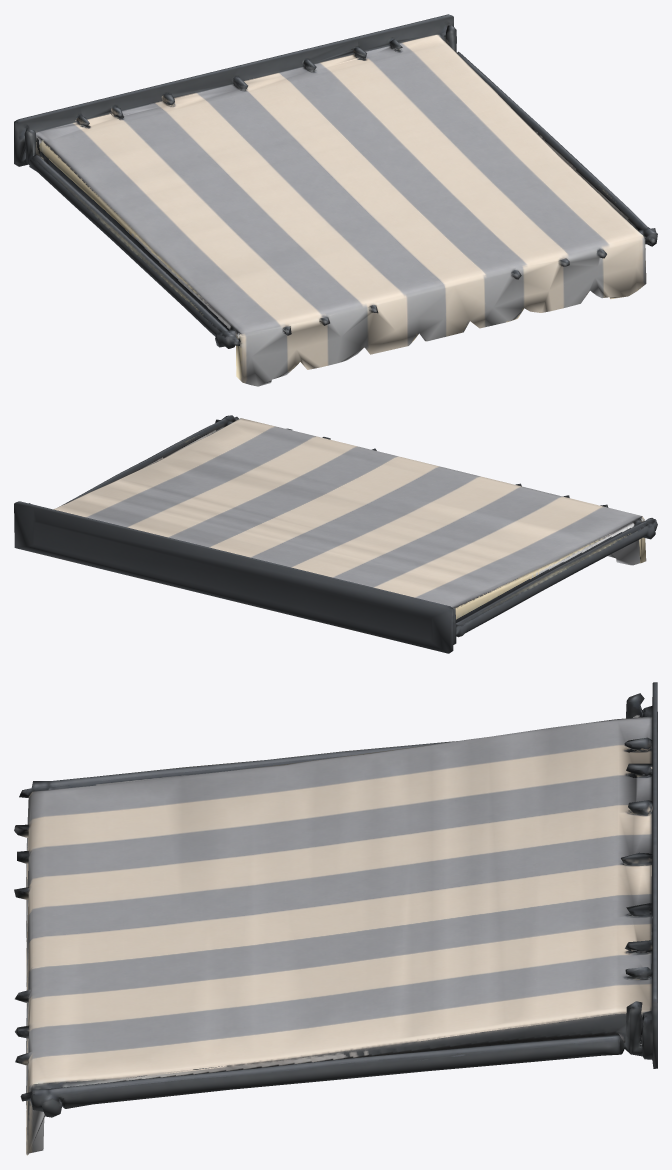
The model's file is awning.glb.
3 views of the same model, one above another, from view 1: azimuth 30°, elevation 25°; view 2: azimuth 150°, elevation 25°; view 3: azimuth 270°, elevation 25° (orthographic). The views are drawn at different scales.
Visible parts, largest first — view 1: low; view 2: low; view 3: low.
Boxes of the visible parts, x1,y1,x2,y2 form: low: (14, 14, 657, 386); low: (14, 415, 657, 653); low: (14, 682, 657, 1155).
Bounding box in the file's own units: 1.87 × 0.4884 × 1.59.
1 material, 1 textured.
